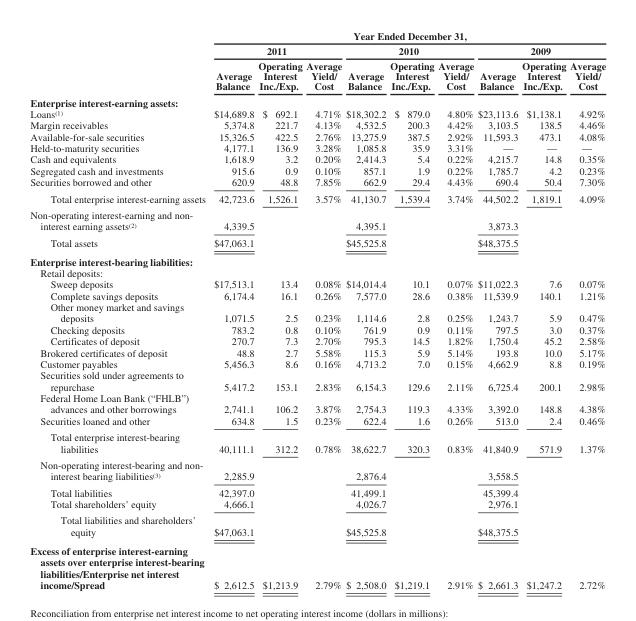table: (29, 29, 605, 590)
table column: (29, 29, 209, 590), (255, 29, 303, 590), (387, 29, 435, 590), (519, 29, 567, 590), (209, 29, 255, 590), (343, 29, 387, 590), (475, 29, 519, 590), (303, 29, 343, 590), (435, 29, 475, 590), (567, 29, 605, 590)
table column header: (29, 29, 605, 93)
table projected row header: (29, 251, 605, 266), (29, 93, 605, 107), (29, 266, 605, 278)
table row: (29, 540, 605, 590), (29, 57, 605, 93), (29, 511, 605, 540), (29, 206, 605, 234), (29, 428, 605, 456), (29, 456, 605, 484), (29, 300, 605, 323), (29, 391, 605, 414), (29, 369, 605, 391), (29, 189, 605, 206), (29, 234, 605, 251), (29, 42, 605, 57), (29, 251, 605, 266), (29, 93, 605, 107), (29, 175, 605, 189), (29, 414, 605, 428), (29, 497, 605, 511), (29, 29, 605, 42), (29, 484, 605, 497), (29, 107, 605, 119), (29, 141, 605, 153), (29, 266, 605, 278), (29, 323, 605, 335), (29, 357, 605, 369), (29, 119, 605, 130), (29, 130, 605, 141), (29, 153, 605, 164), (29, 164, 605, 175), (29, 278, 605, 289), (29, 289, 605, 300), (29, 335, 605, 346), (29, 346, 605, 357)
table spanning cell: (209, 29, 605, 42), (209, 42, 343, 57), (343, 42, 475, 57), (475, 42, 605, 57)
